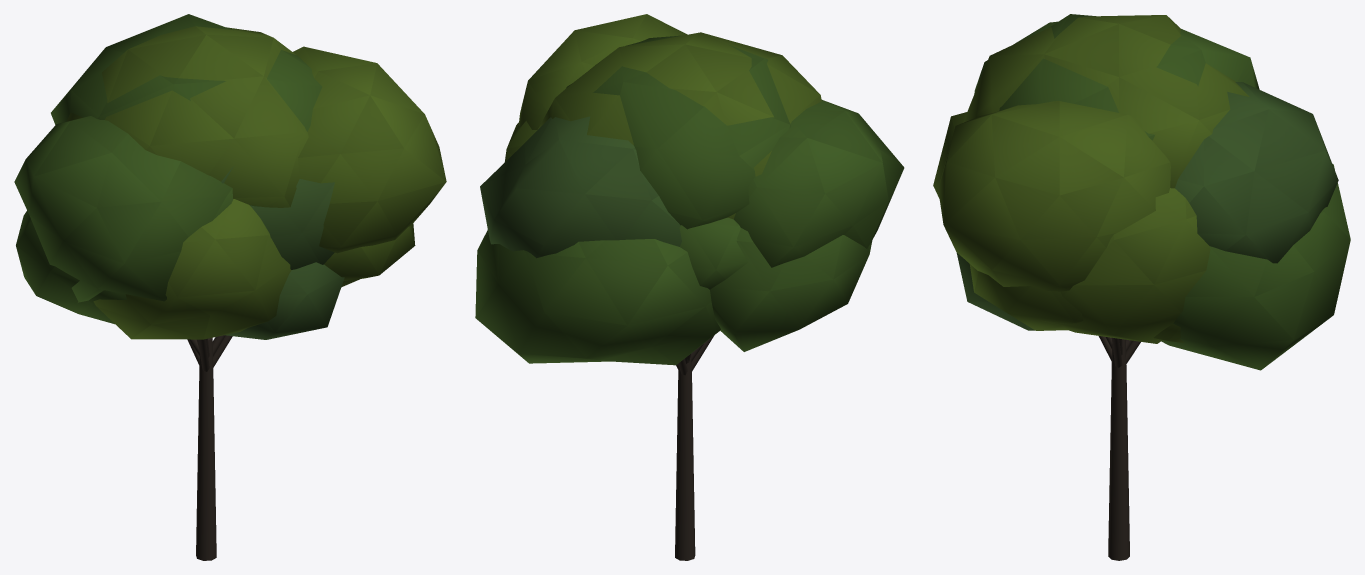
Rendered from tree.glb.
3 renders of one model, left to right at view 1: azimuth 30°, elevation 25°; view 2: azimuth 150°, elevation 25°; view 3: azimuth 270°, elevation 25°, orthographic. The views are drawn at different scales.
Visible parts, largest first — view 1: tree1, tree0, tree2; view 2: tree0, tree1, tree2; view 3: tree1, tree0, tree2.
Part boxes in pixels (x1,y1,x2,y2): tree1: (66, 26, 446, 560); tree0: (14, 14, 322, 356); tree2: (187, 166, 344, 371); tree0: (475, 35, 904, 560); tree1: (505, 14, 821, 560); tree2: (480, 116, 714, 375); tree1: (933, 15, 1249, 560); tree0: (974, 14, 1350, 370); tree2: (956, 82, 1338, 367).
Bounding box in the file's own units: 5.19 × 6.96 × 4.95.
